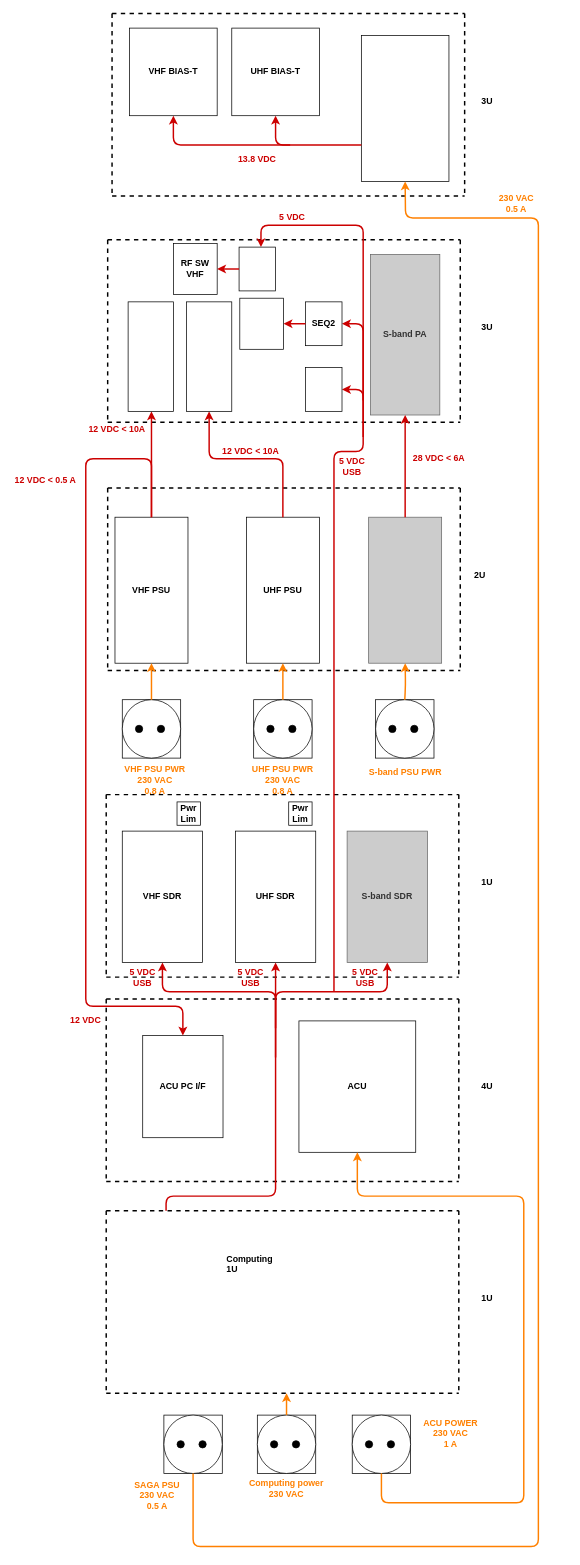
The diagram is 580 pixels wide and 1565 high, and some of its shapes have lost their labels. The centre of each missing label's shape, as x and y in pixels:
"RF SW UHF" belongs at point 261,323.
"S-band PSU" belongs at point 405,589.
"SAGA 13.8VDC PSU" belongs at point 405,108.
"SEQ1" belongs at point 257,268.
"SEQ3" belongs at point 323,389.
"UHF PA" belongs at point 209,356.
"VHF PA" belongs at point 150,356.
